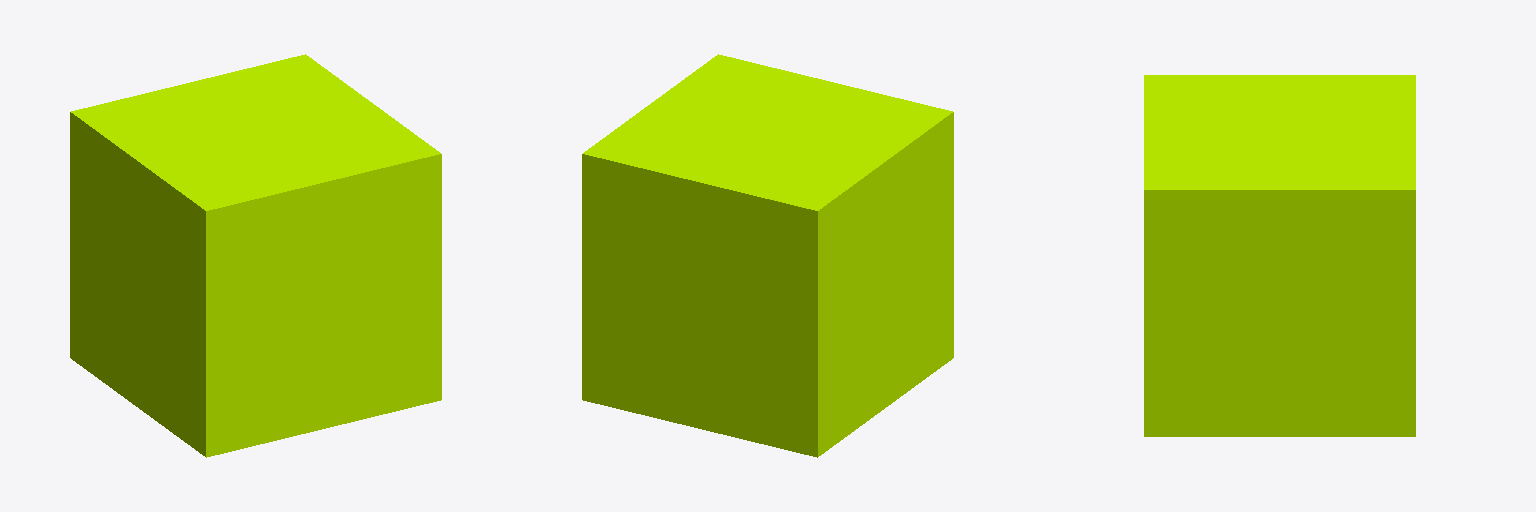
The picture shows the model from 3 angles: view 1: azimuth 30°, elevation 25°; view 2: azimuth 150°, elevation 25°; view 3: azimuth 270°, elevation 25°; orthographic projection.
Parts seen in each view (by area): view 1: object 1; view 2: object 1; view 3: object 1.
Part boxes in pixels (bbox=[...]): object 1: bbox=[70, 54, 441, 457]; object 1: bbox=[582, 54, 953, 457]; object 1: bbox=[1144, 75, 1415, 436].
Bounding box in the file's own units: 0.1 × 0.1 × 0.1.
1 materials, 1 textured.